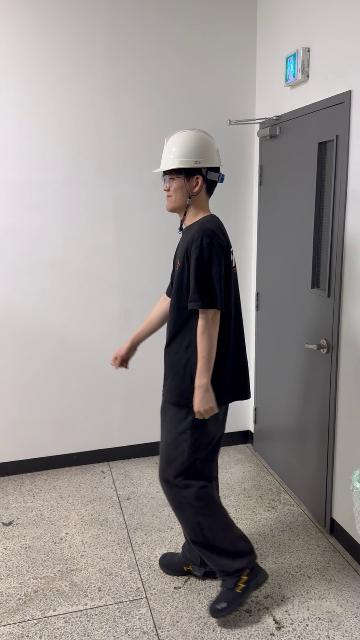helmet_worn: (152, 127, 224, 172)
shoe_worn: (208, 563, 267, 618), (159, 548, 216, 578)
vest_not_worn: (168, 225, 246, 432)
